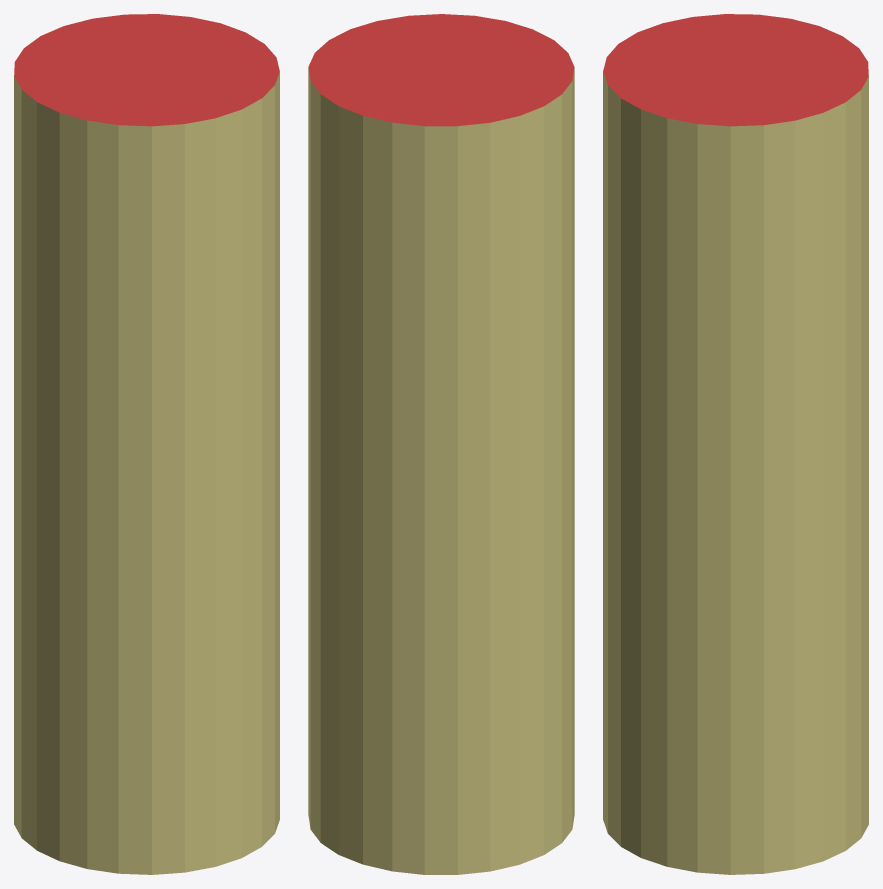
3 views of the same model, side by side, from view 1: azimuth 30°, elevation 25°; view 2: azimuth 150°, elevation 25°; view 3: azimuth 270°, elevation 25° (orthographic).
Size of the model in its own units: 3.3 by 3.3 by 10.25.
